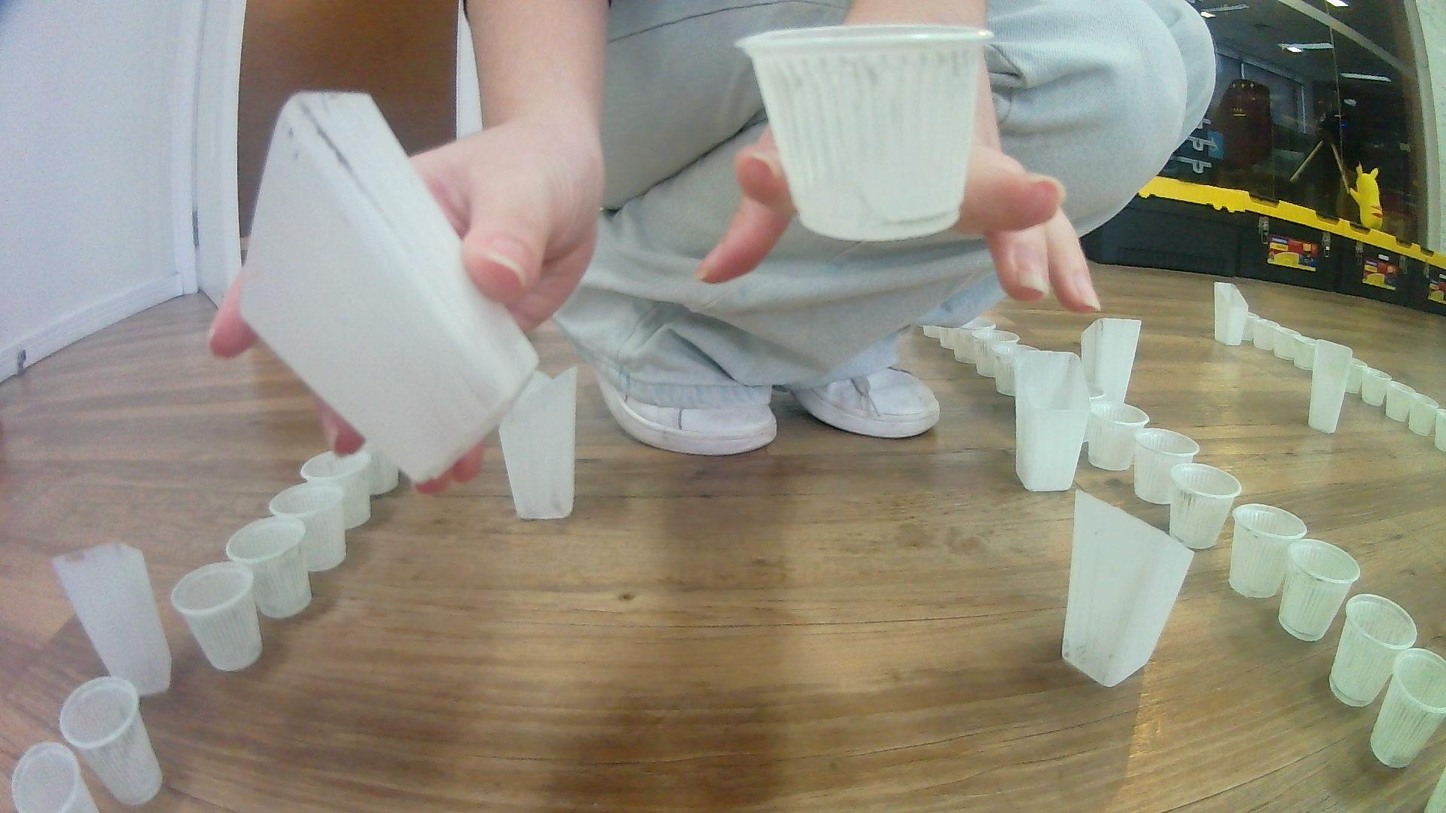erva_daninha: (237, 86, 542, 487), (1059, 486, 1196, 689), (52, 540, 175, 699), (499, 366, 580, 523), (1011, 350, 1091, 494), (1080, 317, 1142, 421), (1308, 338, 1355, 436), (1212, 281, 1250, 346)
planta: (732, 21, 997, 245), (59, 676, 163, 808), (1326, 592, 1420, 708), (169, 562, 265, 673), (1370, 647, 1446, 772), (225, 516, 314, 620), (1277, 538, 1362, 642), (1228, 503, 1309, 600), (267, 483, 349, 574), (1168, 463, 1244, 551), (8, 741, 100, 813), (299, 448, 374, 531), (1132, 428, 1201, 506), (1087, 402, 1151, 473), (348, 445, 400, 497), (994, 346, 1045, 399), (953, 328, 1022, 364), (975, 339, 1031, 379), (1408, 393, 1439, 437), (1385, 381, 1417, 422), (1361, 368, 1393, 408), (1272, 323, 1301, 362), (1252, 315, 1281, 352), (938, 325, 979, 351), (1292, 333, 1317, 372), (1346, 358, 1369, 395), (1243, 311, 1262, 343), (959, 315, 997, 331), (1433, 408, 1446, 453), (922, 324, 948, 338)
